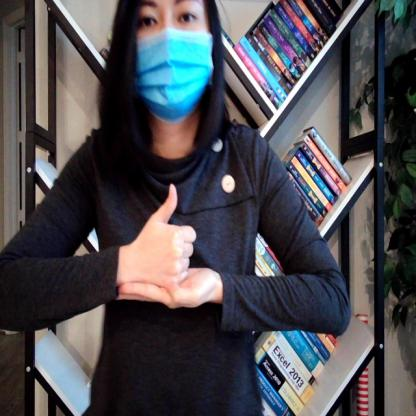help: (112, 180, 226, 311)
